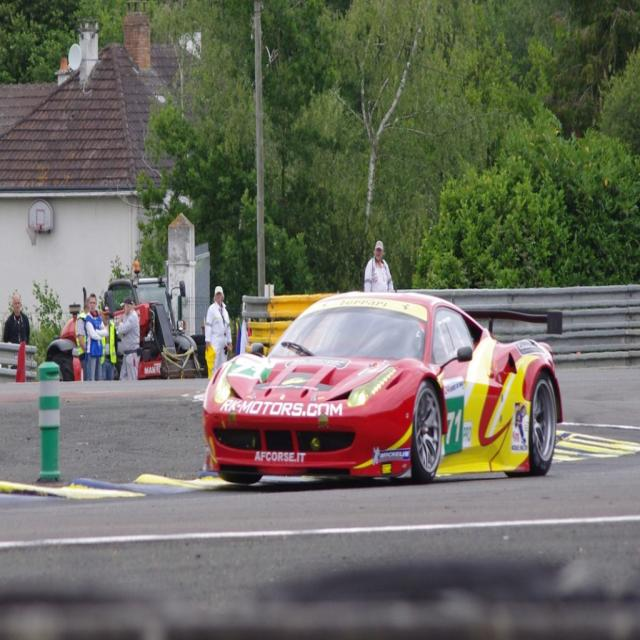car: (205, 290, 562, 475)
